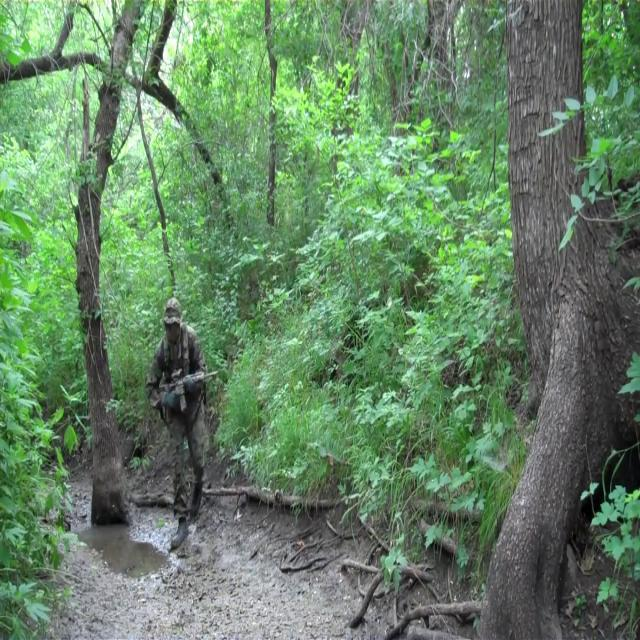MIL_Pax: (149, 300, 210, 556)
